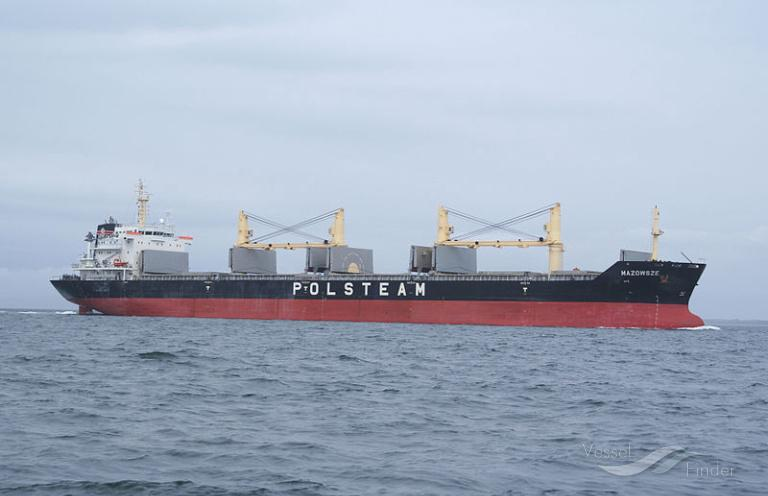OCR: (285, 269, 432, 302)
